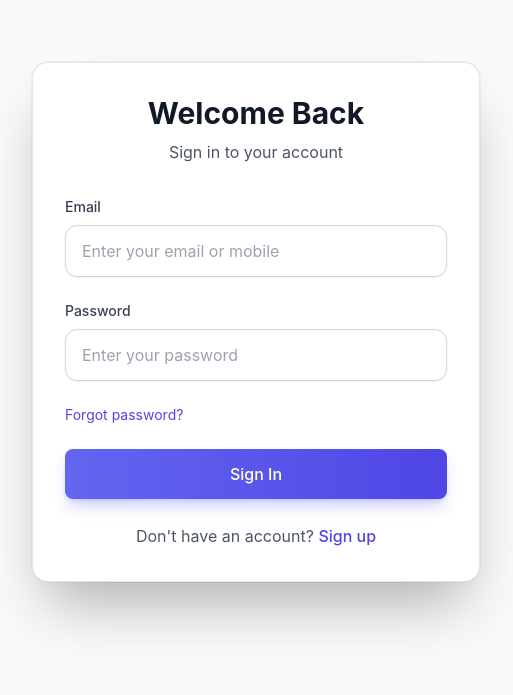
it: Login Page › should handle login failure
The width and height of the screenshot is (513, 695).
In the field with id "emailOrMobile": (256, 251) left=65, top=225, right=447, bottom=277, type "test@example.com"
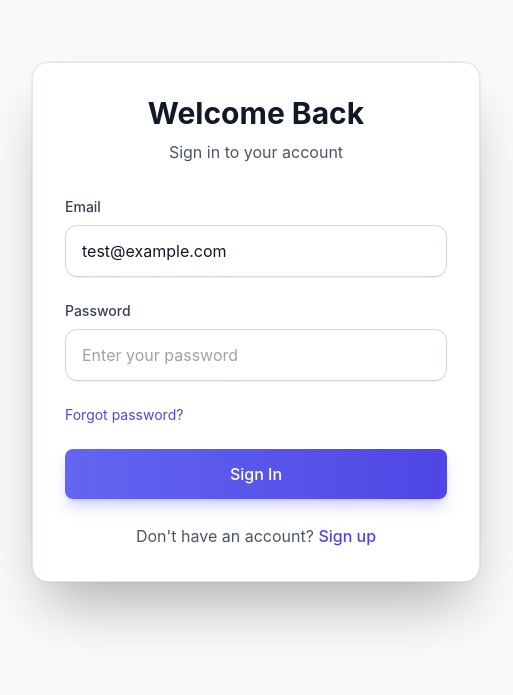
In the password field labelled "Password": (256, 355) left=65, top=329, right=447, bottom=381, type "wrongpassword"
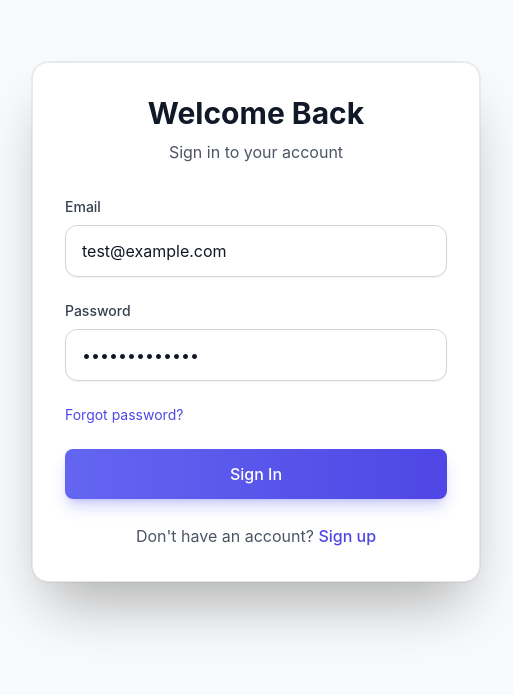
Click the button "Sign In": (256, 474) left=65, top=449, right=447, bottom=499
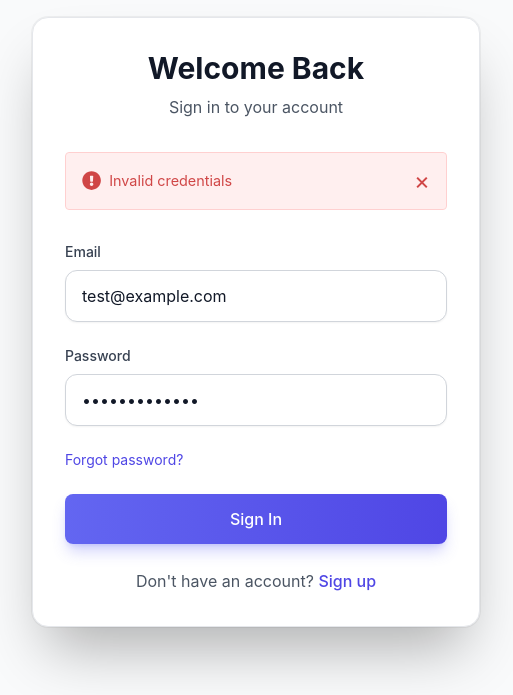
Expected: the text "Invalid credentials" is shown, left=109, top=172, right=232, bottom=190
